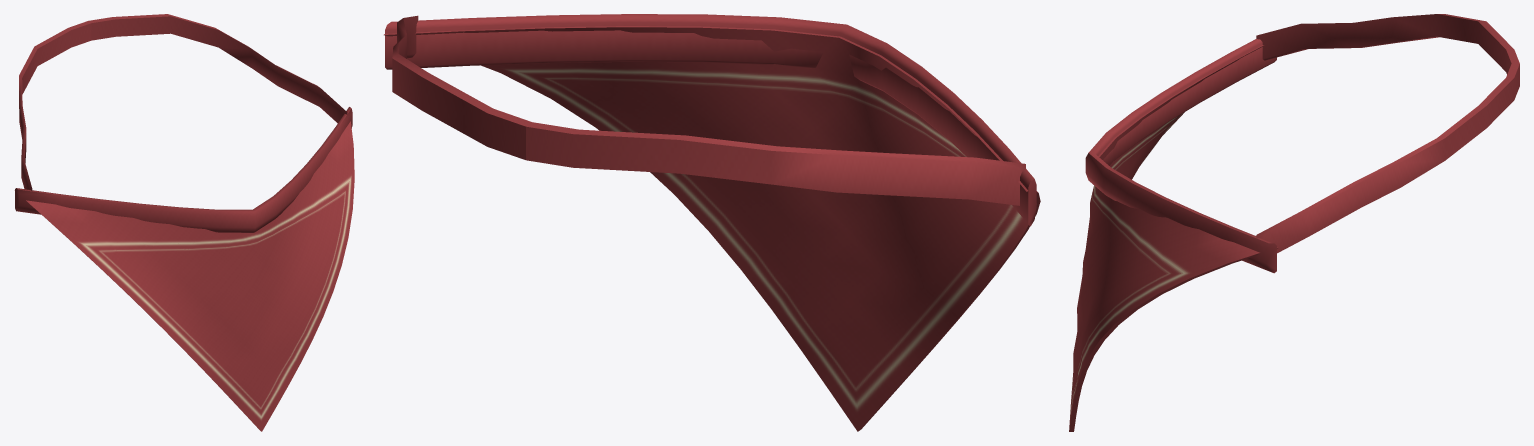
File: KD_Bandana_Set.fbx
3 views of the same model, side by side, from view 1: azimuth 30°, elevation 25°; view 2: azimuth 150°, elevation 25°; view 3: azimuth 270°, elevation 25° (orthographic). The views are drawn at different scales.
Parts seen in each view (by area): view 1: KD_Bandana_Set; view 2: KD_Bandana_Set; view 3: KD_Bandana_Set.
Boxes of the visible parts, x1=… form: KD_Bandana_Set: x1=14, y1=14, x2=354, y2=431; KD_Bandana_Set: x1=384, y1=14, x2=1040, y2=431; KD_Bandana_Set: x1=1069, y1=14, x2=1519, y2=431.
Bounding box in the file's own units: 0.18 × 0.1465 × 0.1625.
1 material, 1 textured.
